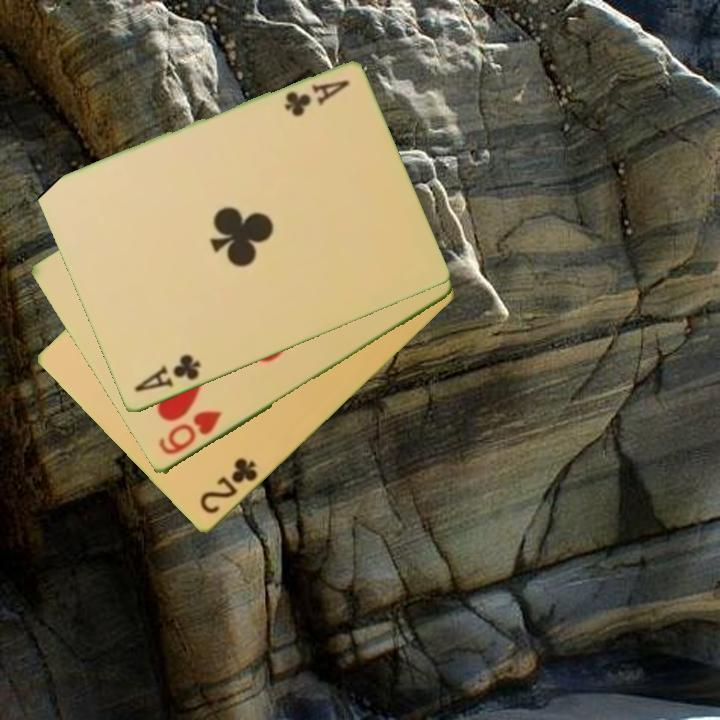2c: (196, 455, 261, 517)
6h: (154, 407, 225, 459)
Ac: (130, 351, 204, 396), (280, 77, 353, 120)
